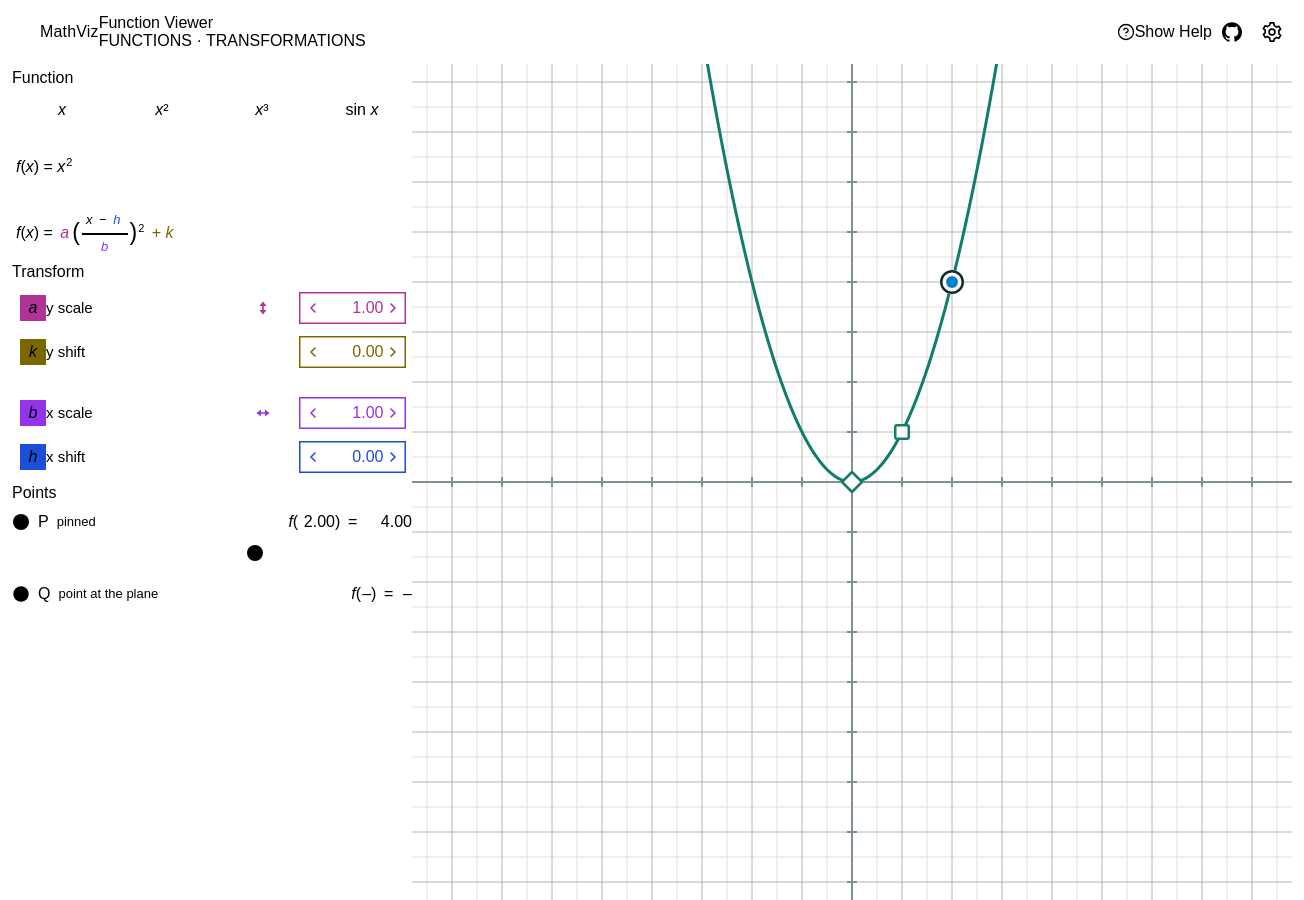
Scenario: the Show Help button › shows a tip for each section and the grid, looking pressed, until it is clicked again
Expected: the text "Pick a function" is not shown
Click the button "Show Help" at (1164, 32), box [1117,12,1212,52]
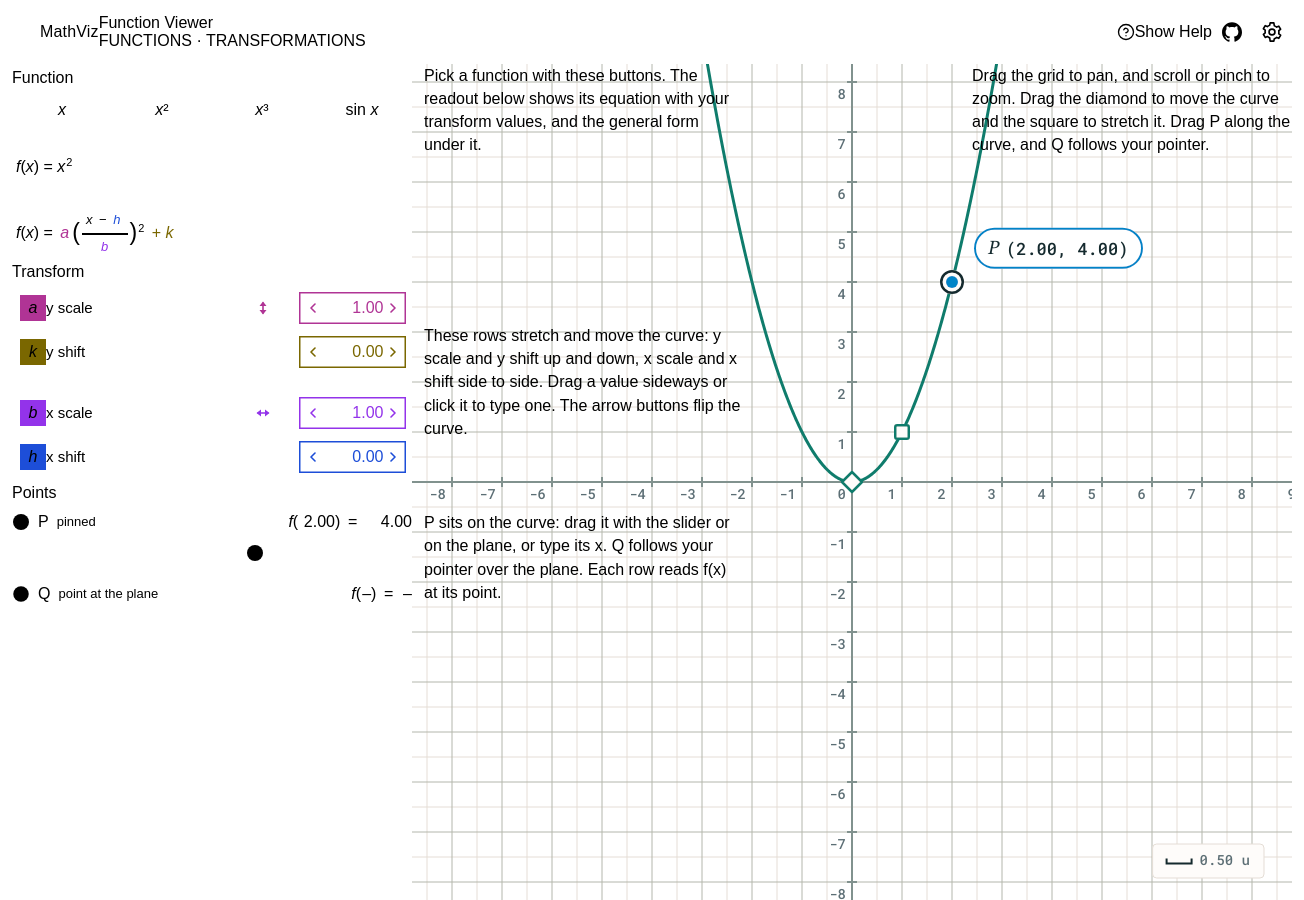
Now the text "Pick a function" is shown, box [424,67,729,153]
Now the text "These rows stretch and move the curve" is shown, box [424,327,740,437]
Now the text "P sits on the curve" is shown, box [424,514,730,601]
Click the button "Show Help" at (1164, 32), box [1117,12,1212,52]
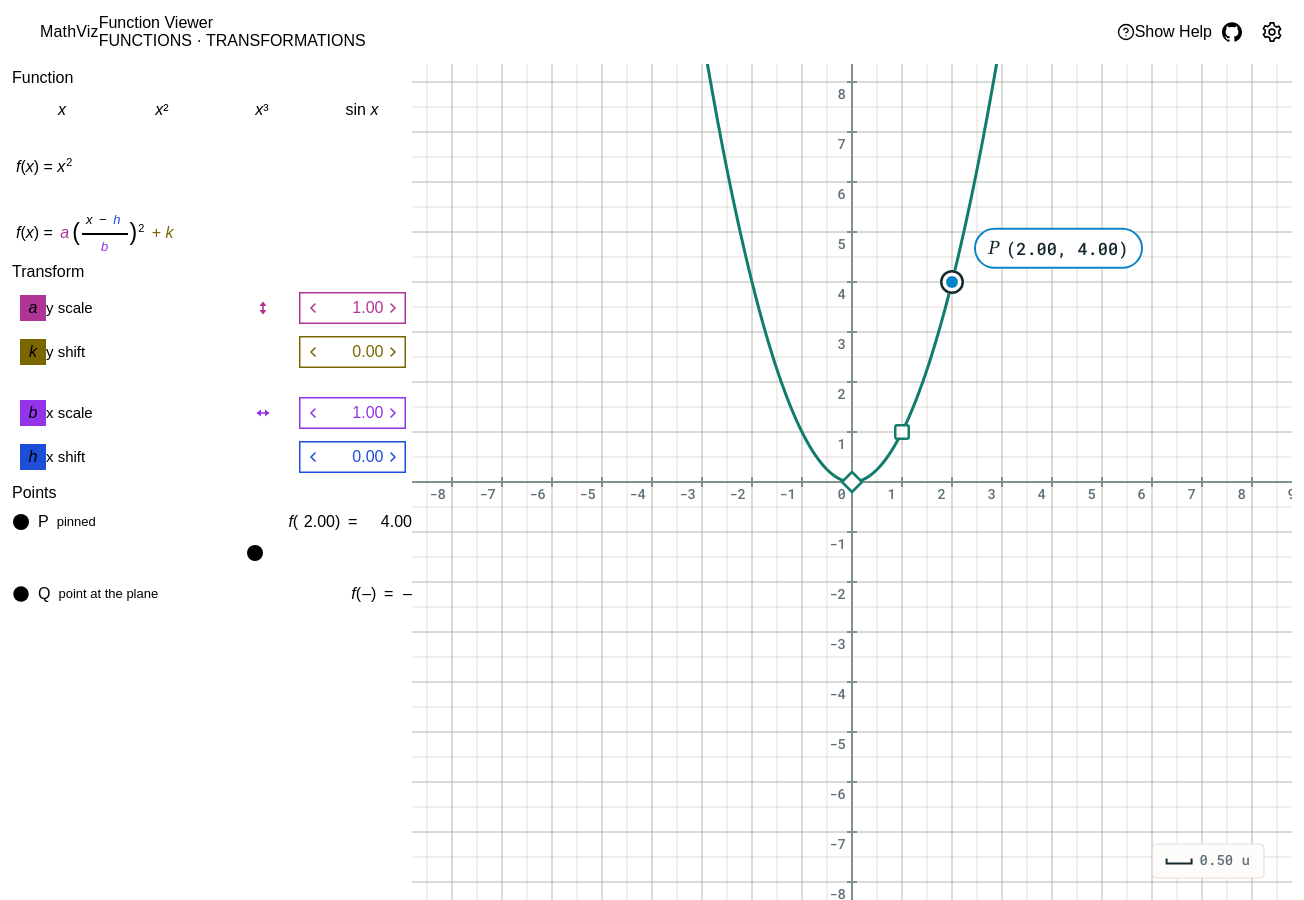
Now the text "Pick a function" is gone
Now the text "These rows stretch" is gone
Now the text "P sits on the curve" is gone
